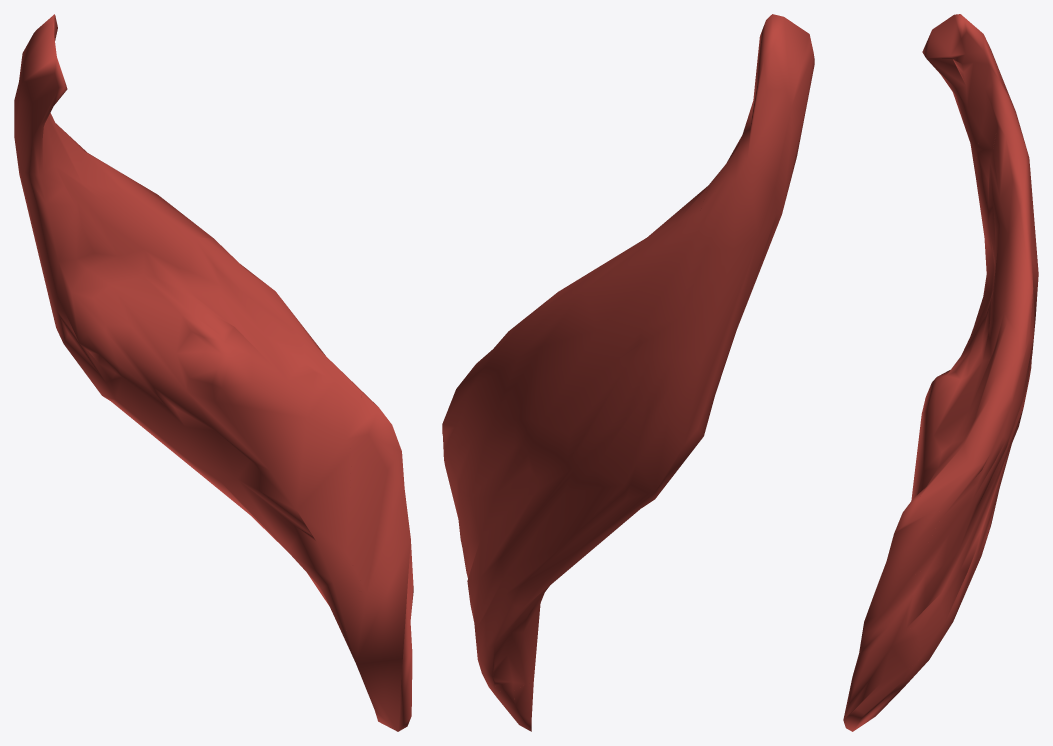
Rendered from musculos-popliteus-muscle-r.glb.
3 views of the same model, side by side, from view 1: azimuth 30°, elevation 25°; view 2: azimuth 150°, elevation 25°; view 3: azimuth 270°, elevation 25° (orthographic). The views are drawn at different scales.
Parts seen in each view (by area): view 1: Popliteus muscle.r; view 2: Popliteus muscle.r; view 3: Popliteus muscle.r.
Part boxes in pixels (x1,y1,x2,y2): Popliteus muscle.r: (14,14,413,731); Popliteus muscle.r: (442,14,814,731); Popliteus muscle.r: (843,14,1038,731).
Size of the model in its own units: 0.0591 by 0.1251 by 0.0365.
